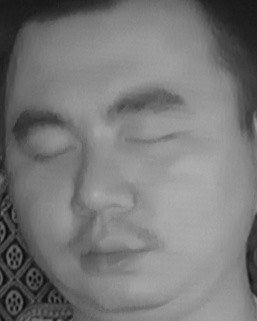blink: (123, 118, 183, 156), (30, 134, 78, 171)
mouth: (69, 226, 156, 282)
